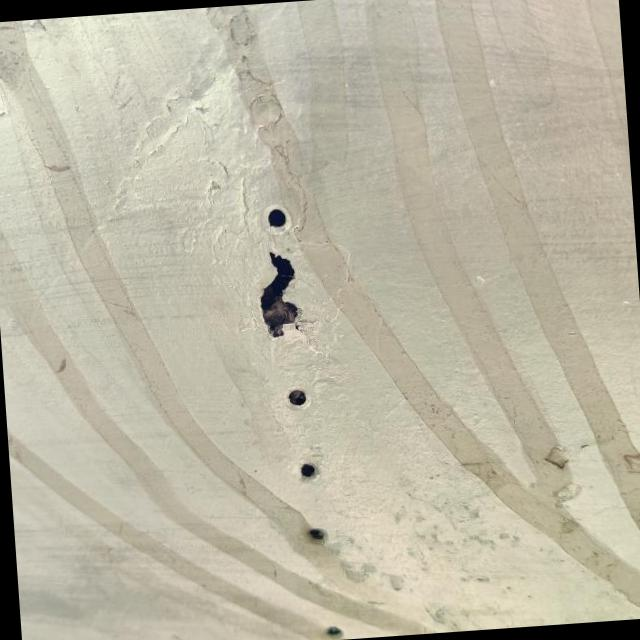Crack: (259, 252, 297, 337)
